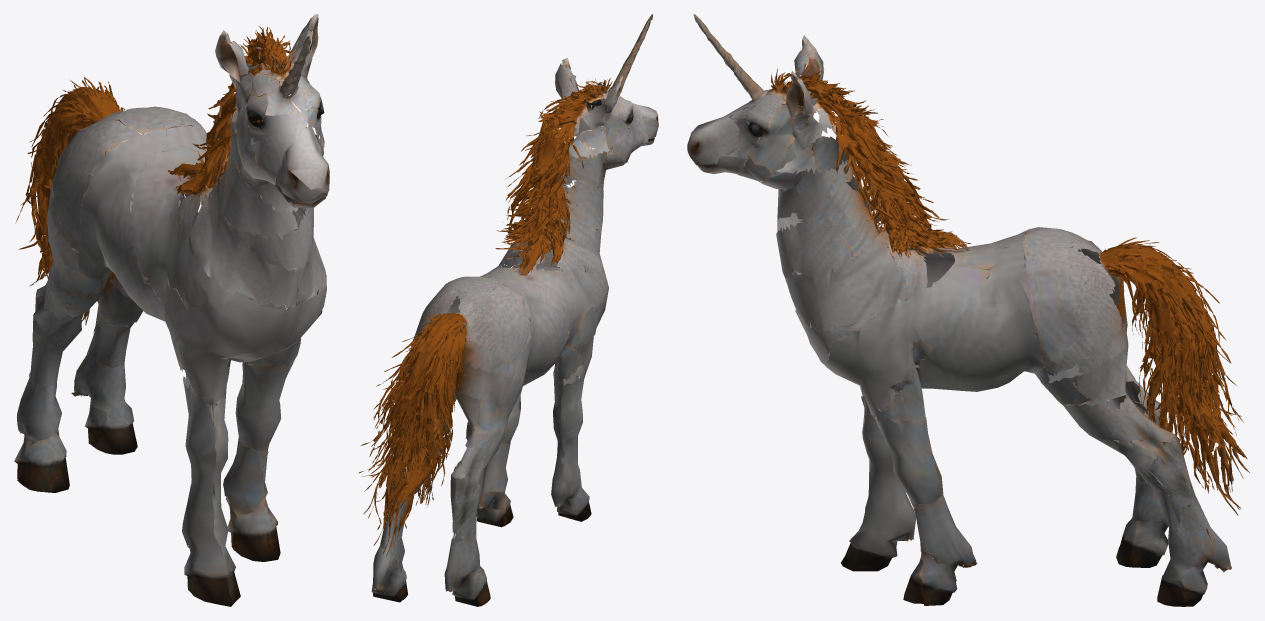
File: uni-foal.glb
The picture shows the model from 3 angles, left to right: view 1: azimuth 30°, elevation 25°; view 2: azimuth 150°, elevation 25°; view 3: azimuth 270°, elevation 25°; orthographic projection. The views are drawn at different scales.
Visible parts, largest first — view 1: asset; view 2: asset; view 3: asset.
Boxes of the visible parts, x1,y1,x2,y2 form: asset: [14, 14, 329, 606]; asset: [359, 14, 658, 606]; asset: [687, 14, 1249, 606].
Size of the model in its own units: 0.4468 by 1.9 by 1.77.
1 material, 1 textured.
